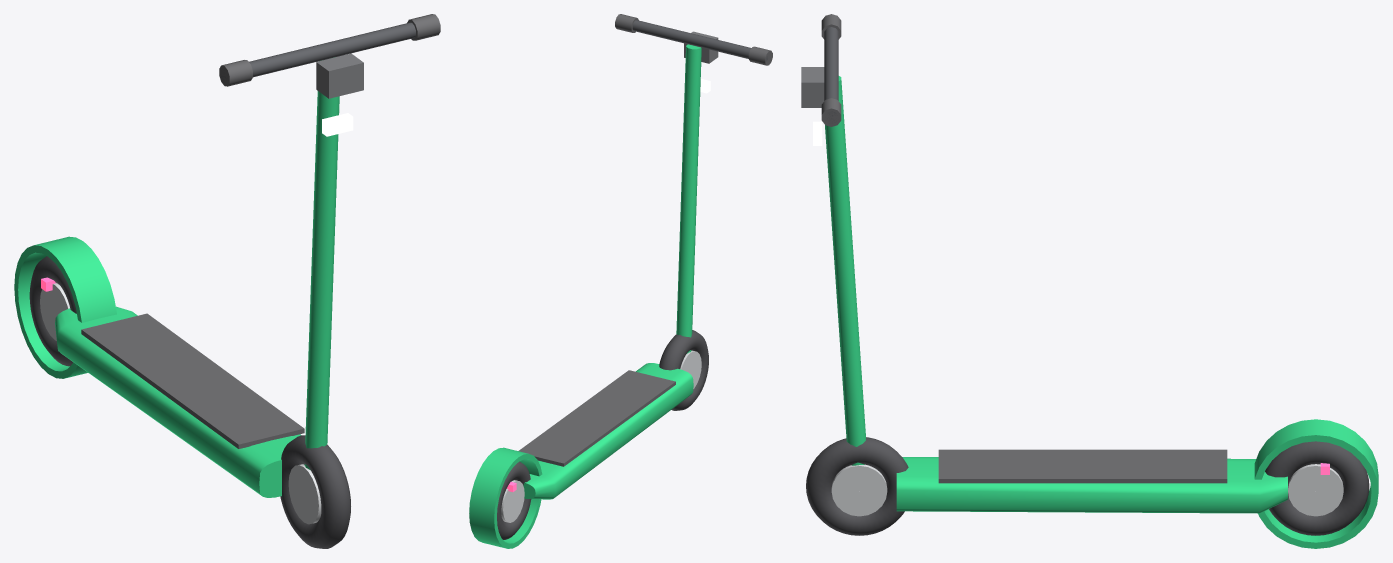
File: scooter-kick.glb
3 views of the same model, side by side, from view 1: azimuth 30°, elevation 25°; view 2: azimuth 150°, elevation 25°; view 3: azimuth 270°, elevation 25° (orthographic). The views are drawn at different scales.
Parts seen in each view (by area): view 1: scooter-kick; view 2: scooter-kick; view 3: scooter-kick.
Boxes of the visible parts, x1=… form: scooter-kick: x1=14, y1=14, x2=440, y2=548; scooter-kick: x1=469, y1=14, x2=772, y2=548; scooter-kick: x1=801, y1=14, x2=1378, y2=548.
Size of the model in its own units: 0.48 by 1.14 by 1.24.
